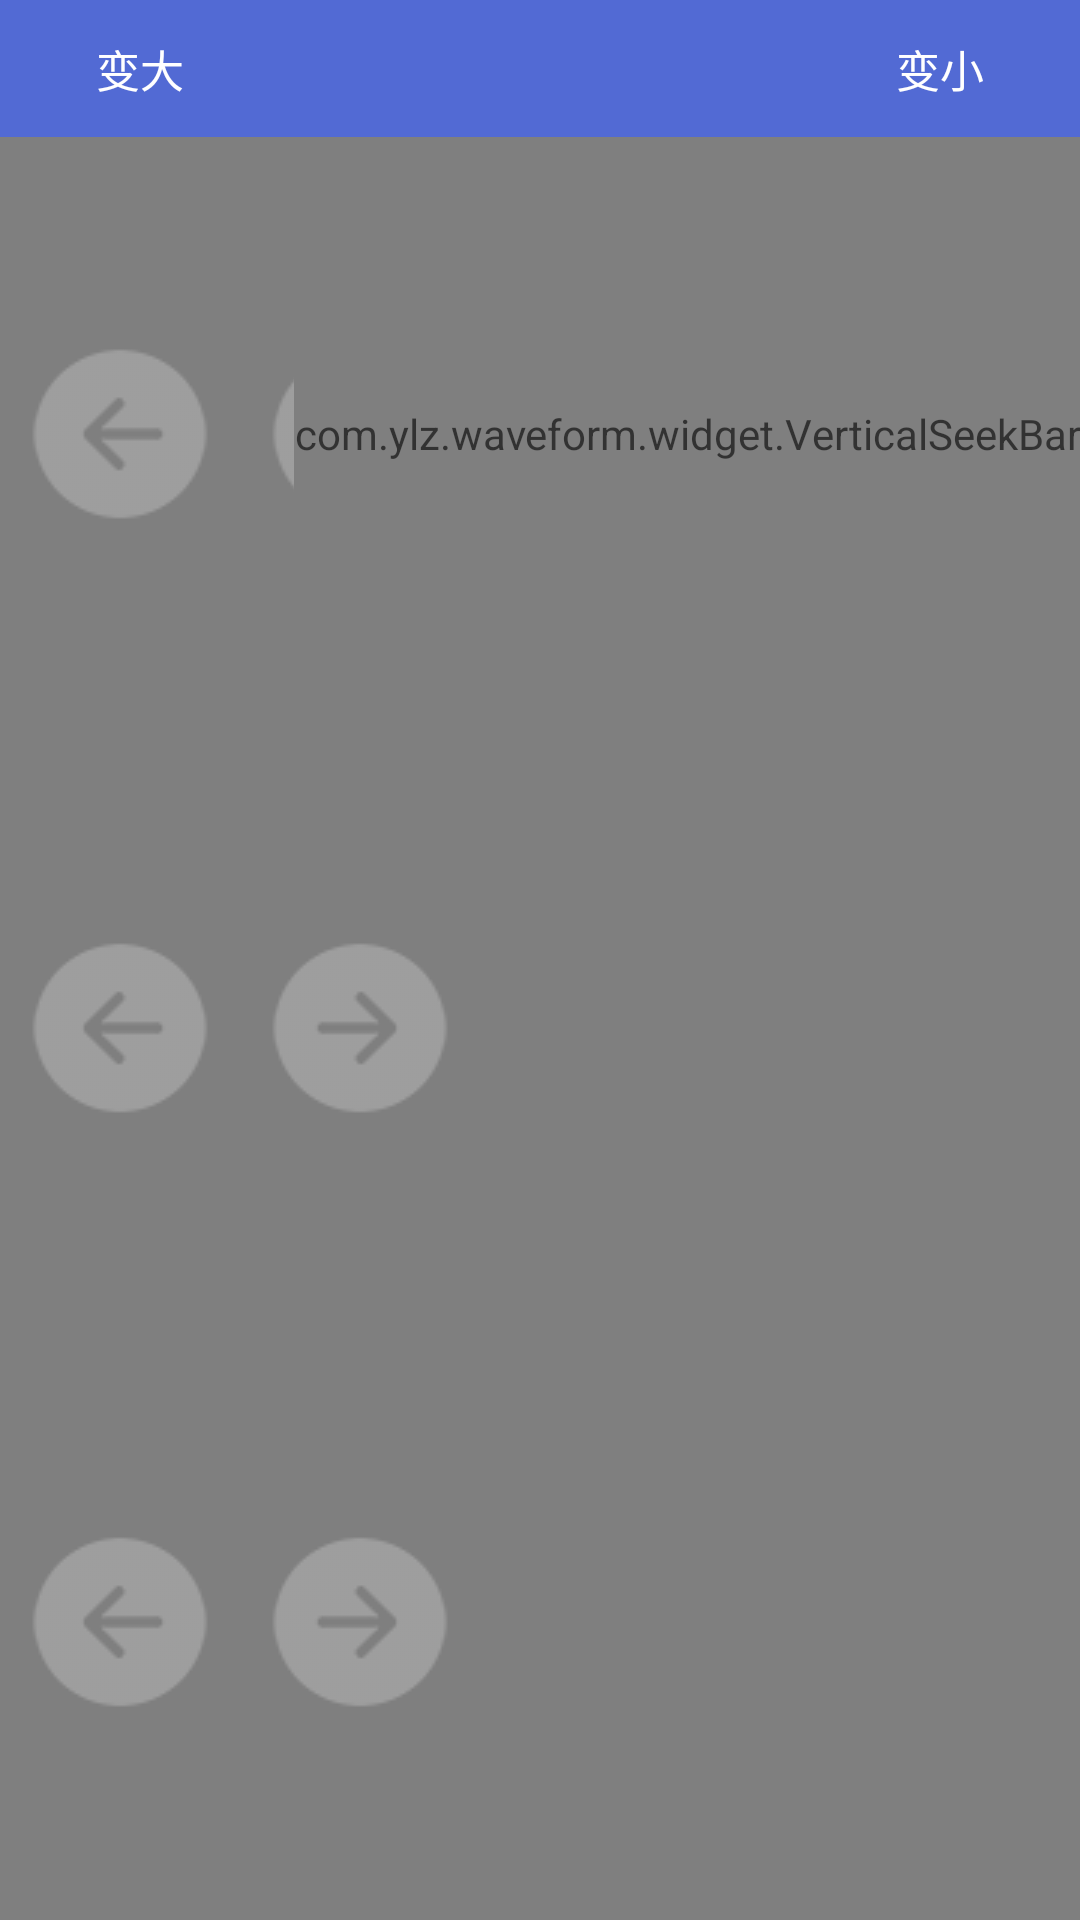

Locate icon controls on the screen. Image size 1080x1920, boxes as box(x1, y1, x2, y2).
zuo: box(36, 351, 204, 517), box(36, 945, 204, 1111), box(36, 1539, 204, 1705)
